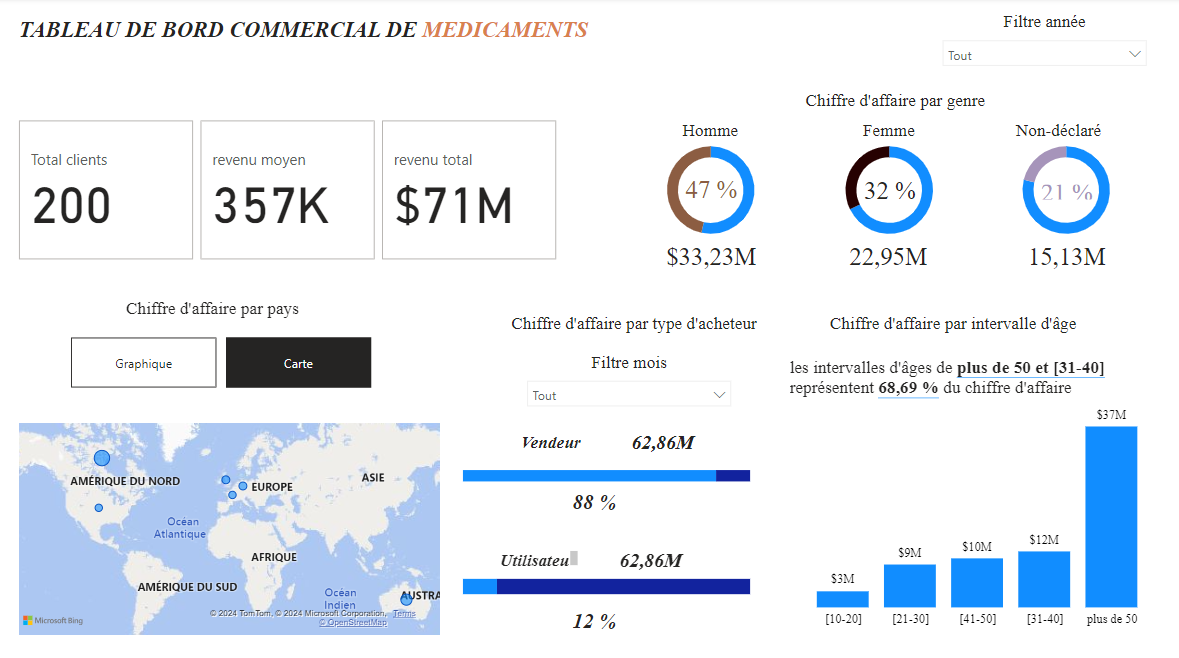

The page's visual inventory and layout, read from the dashboard file:
{"tool":"powerbi","page":{"name":"Clients","canvas":[1280,720],"ordinal":1},"visuals":[{"type":"cardVisual","fields":{"Data":["_mesures.Total clients","_mesures.revenu moyen","_mesures.revenu total"]},"box":[16,144,592,144],"z":0},{"type":"group","id":"g1","title":"Groupe 1","box":[672,158.5,192,116.4],"z":0,"group":"g2"},{"type":"hundredPercentStackedBarChart","fields":{"Y":["_mesures.% CA vendeur","_mesures.reste CA vendeur"]},"box":[496,480,320,64],"z":0,"group":"g5"},{"type":"hundredPercentStackedBarChart","fields":{"Y":["_mesures.% CA utilisateur","_mesures.reste CA utilisateur"]},"box":[496,592,320,80],"z":0,"group":"g6"},{"type":"group","id":"g2","title":"Groupe 2","box":[672,144,576,160],"z":1000},{"type":"group","id":"g3","title":"Groupe 1","box":[864,158.5,192,116.4],"z":1000,"group":"g2"},{"type":"textbox","box":[549.3,464,93.3,32],"z":1000,"group":"g5"},{"type":"clusteredBarChart","title":"graphique","fields":{"Y":["_mesures.revenu total"],"Category":["CustomerTable.Country"]},"box":[16,482.4,440.8,237.6],"z":1000,"group":"g9"},{"type":"textbox","box":[512,592,112,32],"z":1000,"group":"g6"},{"type":"group","id":"g4","title":"Groupe 1","box":[1056,158.5,192,116.4],"z":2000,"group":"g2"},{"type":"bookmarkNavigator","box":[77.9,368,324.8,54.2],"z":2000,"group":"g9"},{"type":"group","id":"g5","title":"Groupe 5","box":[496,464,320,96],"z":2000},{"type":"card","fields":{"Values":["_mesures.CA vendeur"]},"box":[656,464,120,32],"z":2000,"group":"g5"},{"type":"card","fields":{"Values":["_mesures.CA utilisateur"]},"box":[642.7,592,120,32],"z":2000,"group":"g6"},{"type":"textbox","box":[672,144,192,29.1],"z":3000,"group":"g2"},{"type":"donutChart","fields":{"Y":["_mesures.reste:homme","_mesures.% CA homme"]},"box":[672,158.5,192,116.4],"z":3000,"group":"g1"},{"type":"donutChart","fields":{"Y":["_mesures.reste:femme","_mesures.% CA femme"]},"box":[864,158.5,192,116.4],"z":3000,"group":"g3"},{"type":"donutChart","fields":{"Y":["_mesures.reste:non-déclaré","_mesures.% CA non-déclaré"]},"box":[1056,158.5,192,116.4],"z":3000,"group":"g4"},{"type":"card","fields":{"Values":["_mesures.% CA vendeur"]},"box":[602.7,528,80,32],"z":3000,"group":"g5"},{"type":"group","id":"g6","title":"Groupe 6","box":[496,592,320,96],"z":3000},{"type":"card","fields":{"Values":["_mesures.% CA utilisateur"]},"box":[602.7,656,80,32],"z":3000,"group":"g6"},{"type":"textbox","box":[864,144,192,29.1],"z":4000,"group":"g2"},{"type":"card","fields":{"Values":["_mesures.% CA homme"]},"box":[720,197.3,96,38.8],"z":4000,"group":"g1"},{"type":"card","fields":{"Values":["_mesures.% CA femme"]},"box":[912,202.1,96,29.1],"z":4000,"group":"g3"},{"type":"card","fields":{"Values":["_mesures.% CA non-déclaré"]},"box":[1104,205,96,23.3],"z":4000,"group":"g4"},{"type":"group","id":"g7","title":"Groupe 7","box":[848,384,416,304],"z":4000},{"type":"textbox","box":[1056,144,176,29.1],"z":5000,"group":"g2"},{"type":"group","id":"g8","title":"Groupe 8","box":[16,368,464,352],"z":5000},{"type":"clusteredColumnChart","fields":{"Y":["_mesures.revenu total"],"Category":["CustomerTable.intervalle age"]},"box":[848,427.9,416,260.1],"z":5000,"group":"g7"},{"type":"card","fields":{"Values":["_mesures.CA homme"]},"box":[704,260.4,128,43.6],"z":6000,"group":"g2"},{"type":"textbox","box":[848,384,416,71.5],"z":6000,"group":"g7"},{"type":"card","fields":{"Values":["_mesures.pays actif"]},"box":[128,432,224,32],"z":6000},{"type":"slicer","title":"Filtre année","fields":{"Values":["date.Année"]},"box":[1008,0,240,64],"z":7000},{"type":"card","fields":{"Values":["_mesures.CA femme"]},"box":[896,260.4,128,43.6],"z":7000,"group":"g2"},{"type":"card","fields":{"Values":["_mesures.CA non-déclaré"]},"box":[1088,260.4,128,43.6],"z":8000,"group":"g2"},{"type":"textbox","box":[896,336,336,32],"z":8000},{"type":"group","id":"g9","title":"carte/graphique","box":[16,368,464,352],"z":8001,"group":"g8"},{"type":"textbox","box":[39.2,430.1,440.8,124.2],"z":8501,"group":"g8"},{"type":"textbox","box":[512,336,304,32],"z":9000},{"type":"slicer","title":"Filtre mois","fields":{"Values":["date.Mois"]},"box":[560,384,240,64],"z":10000},{"type":"textbox","box":[64,320,336,32],"z":11000},{"type":"textbox","box":[832,96,288,32],"z":12000},{"type":"textbox","box":[16,16,704,48],"z":13000},{"type":"pageNavigator","box":[16,64,592,64],"z":13001}]}

Visuals, with their boxes in screenshot pixels (x1, y1, x2, y2), scaled from the page's 1280x720 canvas onto the 1179x658 screenshot:
cardVisual - _mesures.Total clients x _mesures.revenu moyen: locate(15, 132, 560, 263)
"Groupe 1" group: locate(619, 145, 796, 251)
hundredPercentStackedBarChart - _mesures.% CA vendeur x _mesures.reste CA vendeur: locate(457, 439, 752, 497)
hundredPercentStackedBarChart - _mesures.% CA utilisateur x _mesures.reste CA utilisateur: locate(457, 541, 752, 614)
"Groupe 2" group: locate(619, 132, 1150, 278)
"Groupe 1" group: locate(796, 145, 973, 251)
textbox: locate(506, 424, 592, 453)
"graphique" clusteredBarChart: locate(15, 441, 421, 657)
textbox: locate(472, 541, 575, 570)
"Groupe 1" group: locate(973, 145, 1150, 251)
bookmarkNavigator: locate(72, 336, 371, 386)
"Groupe 5" group: locate(457, 424, 752, 512)
card - _mesures.CA vendeur: locate(604, 424, 715, 453)
card - _mesures.CA utilisateur: locate(592, 541, 703, 570)
textbox: locate(619, 132, 796, 158)
donutChart - _mesures.reste:homme x _mesures.% CA homme: locate(619, 145, 796, 251)
donutChart - _mesures.reste:femme x _mesures.% CA femme: locate(796, 145, 973, 251)
donutChart - _mesures.reste:non-déclaré x _mesures.% CA non-déclaré: locate(973, 145, 1150, 251)
card - _mesures.% CA vendeur: locate(555, 483, 629, 512)
"Groupe 6" group: locate(457, 541, 752, 629)
card - _mesures.% CA utilisateur: locate(555, 600, 629, 629)
textbox: locate(796, 132, 973, 158)
card - _mesures.% CA homme: locate(663, 180, 752, 216)
card - _mesures.% CA femme: locate(840, 185, 928, 211)
card - _mesures.% CA non-déclaré: locate(1017, 187, 1105, 209)
"Groupe 7" group: locate(781, 351, 1164, 629)
textbox: locate(973, 132, 1135, 158)
"Groupe 8" group: locate(15, 336, 442, 657)
clusteredColumnChart - _mesures.revenu total x CustomerTable.intervalle age: locate(781, 391, 1164, 629)
card - _mesures.CA homme: locate(648, 238, 766, 278)
textbox: locate(781, 351, 1164, 416)
card - _mesures.pays actif: locate(118, 395, 324, 424)
"Filtre année" slicer: locate(928, 0, 1150, 58)
card - _mesures.CA femme: locate(825, 238, 943, 278)
card - _mesures.CA non-déclaré: locate(1002, 238, 1120, 278)
textbox: locate(825, 307, 1135, 336)
"carte/graphique" group: locate(15, 336, 442, 657)
textbox: locate(36, 393, 442, 507)
textbox: locate(472, 307, 752, 336)
"Filtre mois" slicer: locate(516, 351, 737, 409)
textbox: locate(59, 292, 368, 322)
textbox: locate(766, 88, 1032, 117)
textbox: locate(15, 15, 663, 58)
pageNavigator: locate(15, 58, 560, 117)
